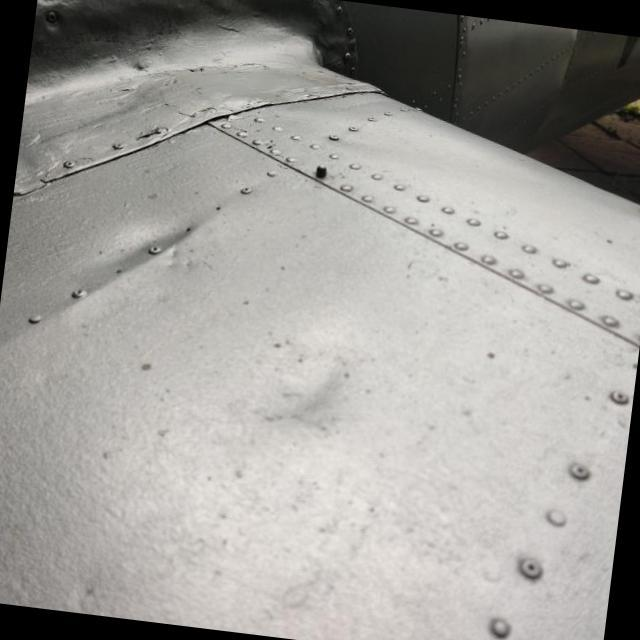Dent: (228, 302, 381, 454), (82, 182, 218, 308)
